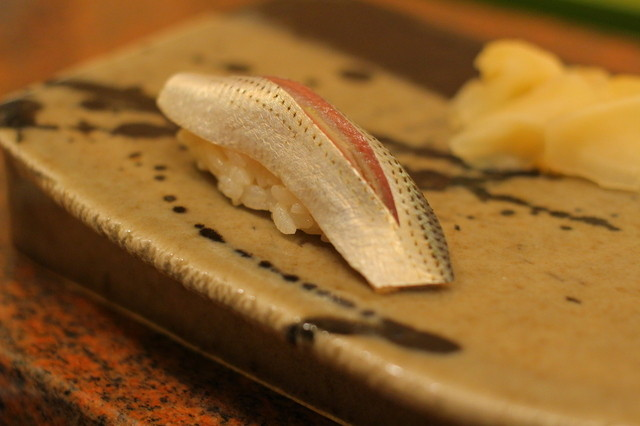spotted-shad: (155, 68, 453, 293)
